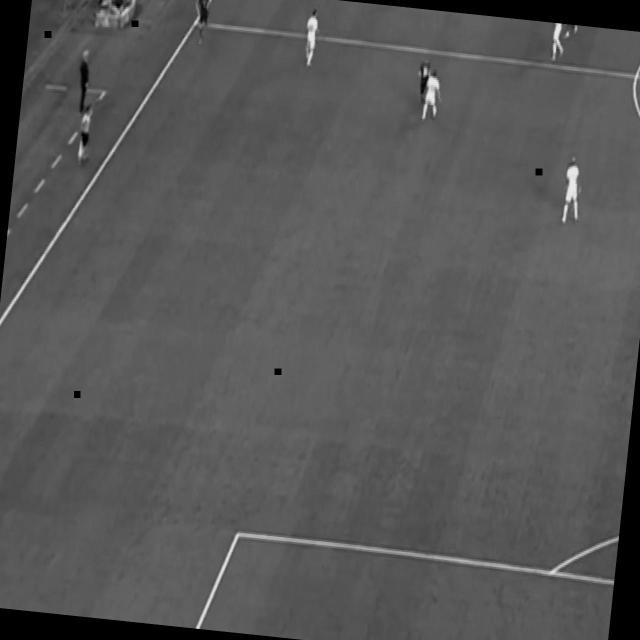player-white: (559, 152, 586, 227), (419, 65, 446, 123), (74, 103, 97, 169), (301, 5, 323, 71), (411, 49, 434, 109), (191, 0, 212, 48), (549, 22, 567, 64), (560, 24, 578, 43)
